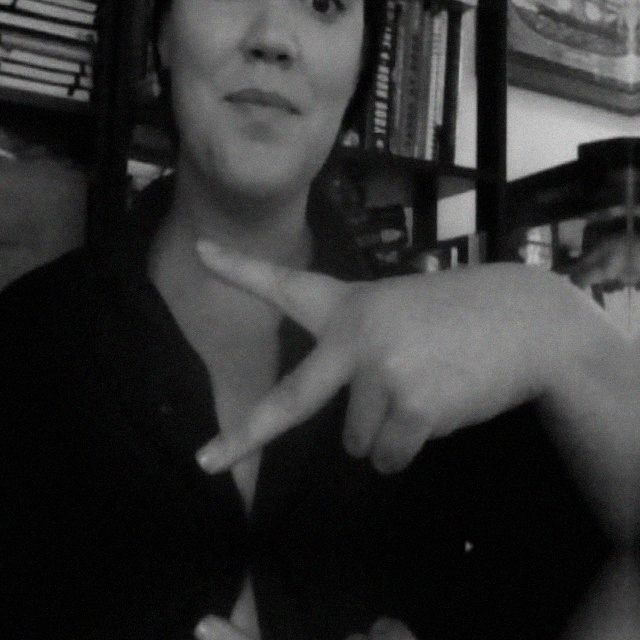Scissors: (198, 234, 580, 490)
